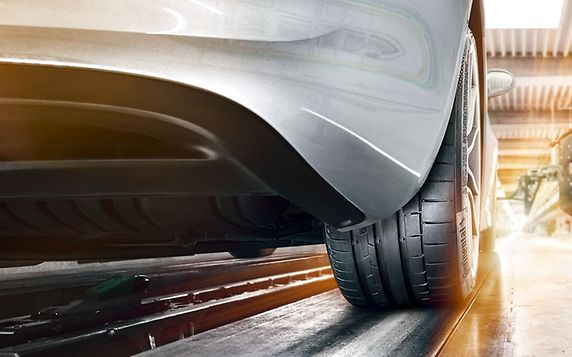tire: (321, 18, 485, 305)
